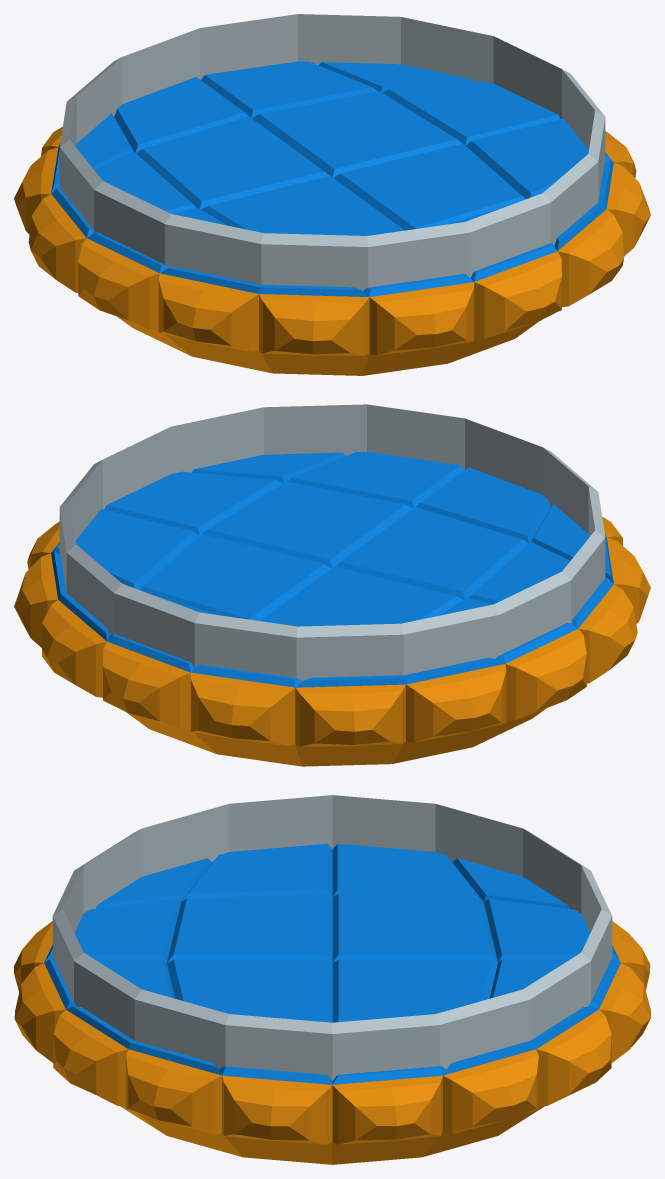
Rendered from Pontoon.fbx.
3 renders of one model, top to bottom at view 1: azimuth 30°, elevation 25°; view 2: azimuth 150°, elevation 25°; view 3: azimuth 270°, elevation 25°, orthographic.
Visible parts, largest first — view 1: 圆环.016; view 2: 圆环.016; view 3: 圆环.016.
Part boxes in pixels (left/top/right/bottom): 圆环.016: left=14, top=14, right=650, bottom=375; 圆环.016: left=14, top=404, right=650, bottom=766; 圆环.016: left=14, top=795, right=650, bottom=1164.
Bounding box in the file's own units: 873 × 873 × 237.
